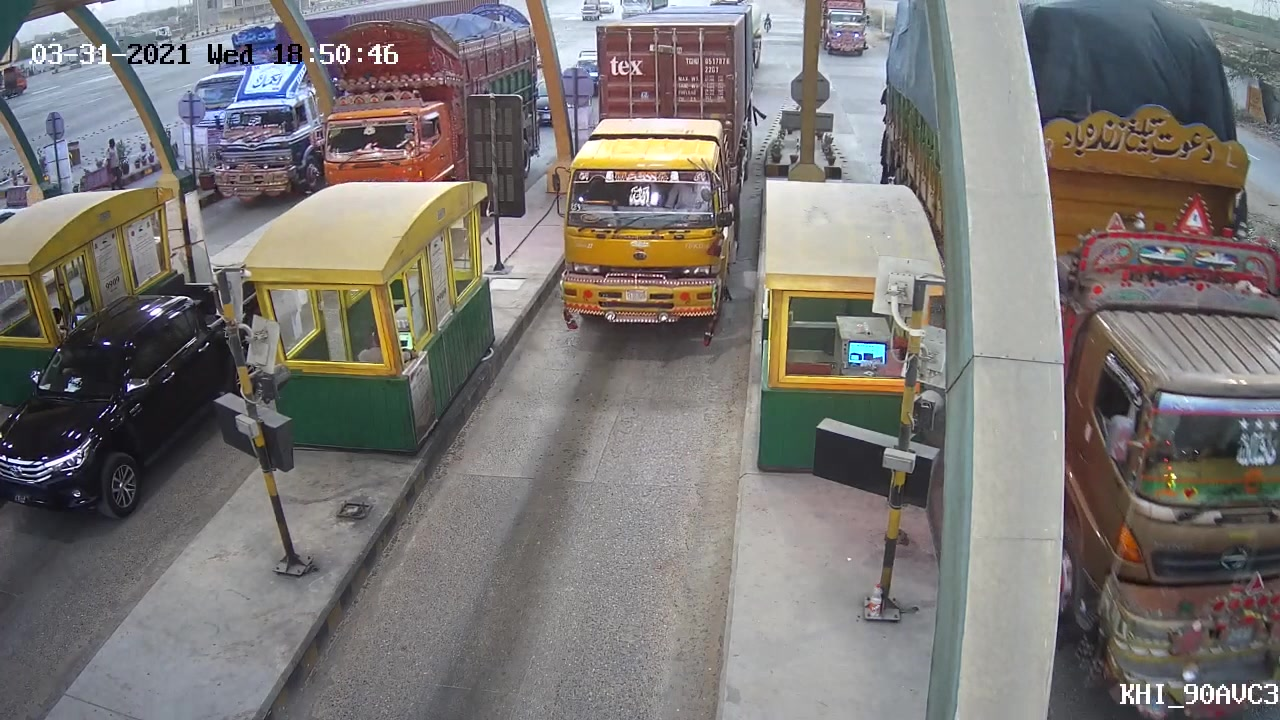F6: (533, 49, 751, 336)
